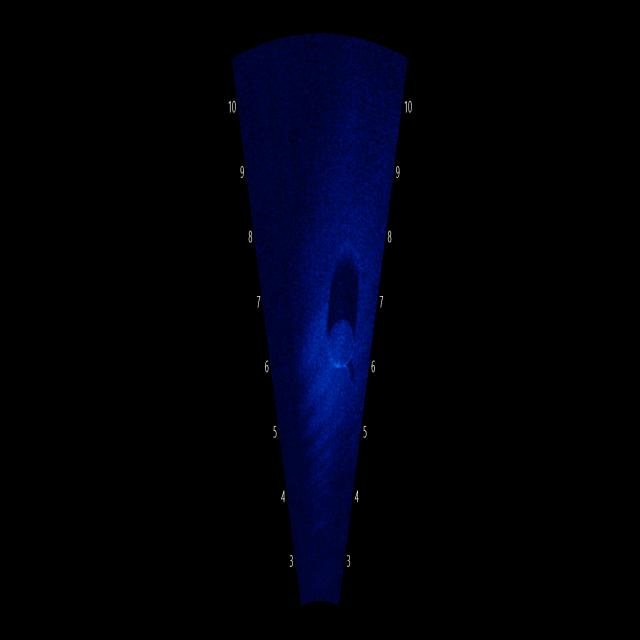circle: (325, 313, 358, 372)
